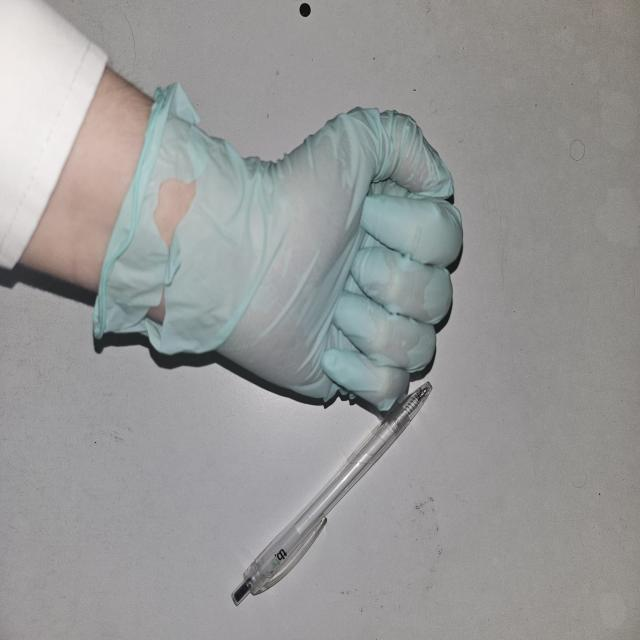gloves_damaged: (96, 80, 465, 414)
